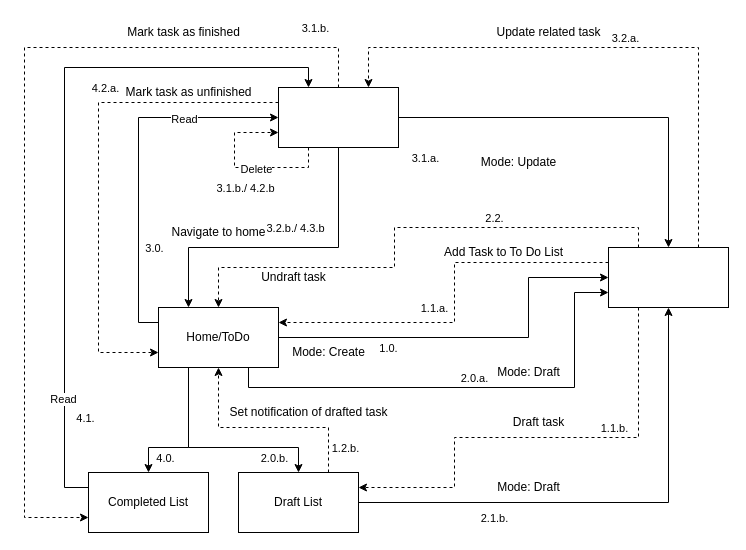
Some shapes in this 746 by 550 pixel diagram are drawn without their labels. The shapes that lost their labels are listed below. From the top down, each one's box as (x1, y1, x2, y2) in pixels, then its label:
(278, 86, 398, 148): Task
(608, 246, 728, 308): Feature: Form
